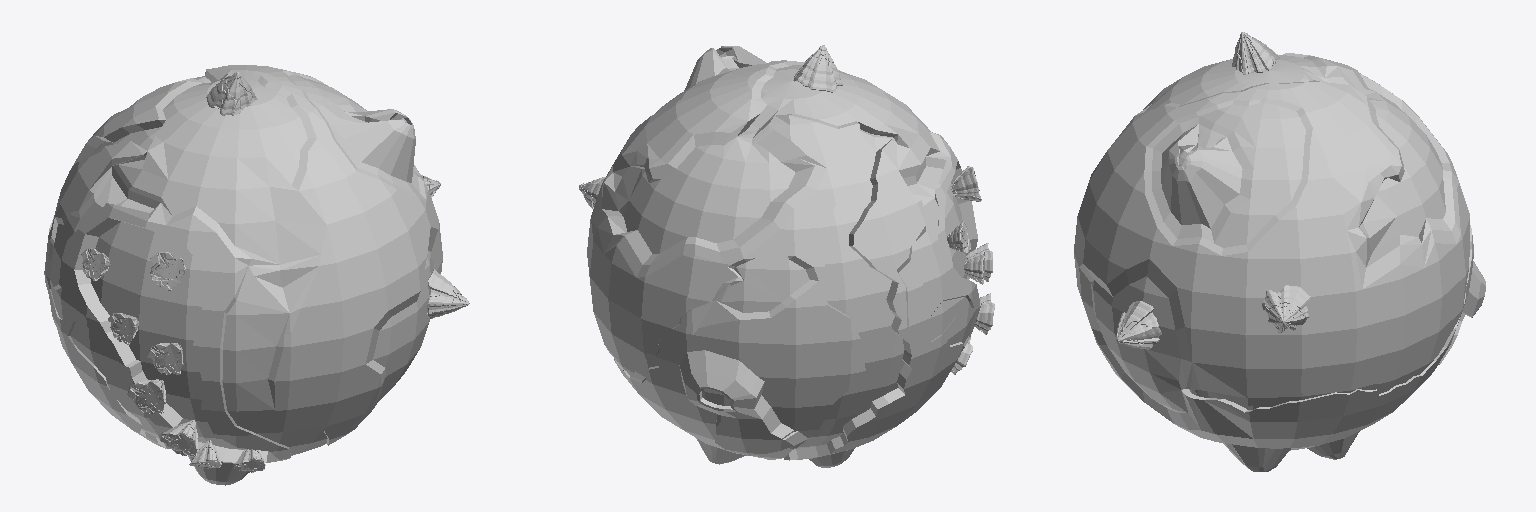
The model's file is volcan 2.obj.
3 views of the same model, side by side, from view 1: azimuth 30°, elevation 25°; view 2: azimuth 150°, elevation 25°; view 3: azimuth 270°, elevation 25° (orthographic).
Visible parts, largest first — view 1: Esfera.012_Esfera.013; view 2: Esfera.012_Esfera.013; view 3: Esfera.012_Esfera.013.
Part boxes in pixels (x1,y1,x2,y2): Esfera.012_Esfera.013: (44, 65, 469, 485); Esfera.012_Esfera.013: (579, 45, 994, 467); Esfera.012_Esfera.013: (1074, 32, 1485, 471).
Size of the model in its own units: 2.16 by 2.27 by 2.06.